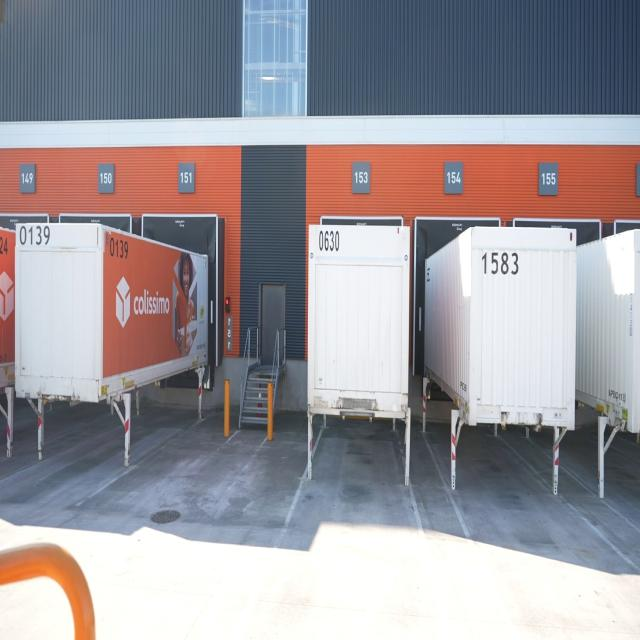Code: (478, 246, 522, 284), (18, 222, 52, 250), (105, 229, 132, 262), (316, 226, 343, 253)
